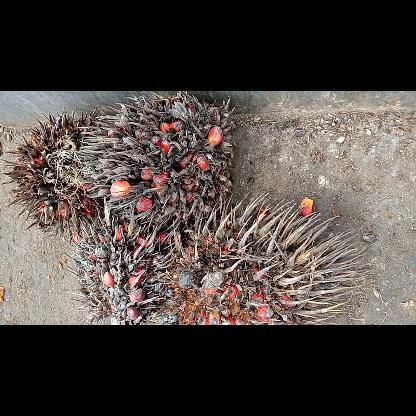Terlalu masak: (144, 184, 374, 324), (82, 92, 242, 230), (0, 102, 114, 244), (61, 198, 175, 324)
